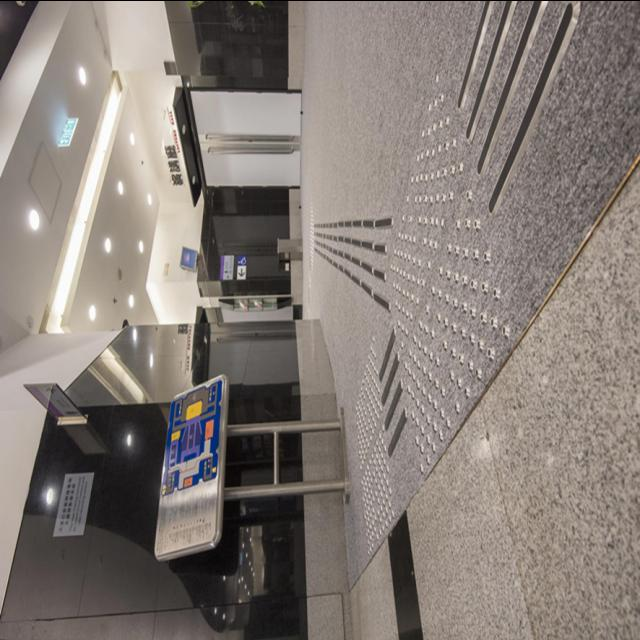tactile-guide-path: (390, 71, 510, 473), (452, 1, 582, 212), (355, 336, 397, 546), (314, 215, 390, 312), (378, 326, 408, 454)
